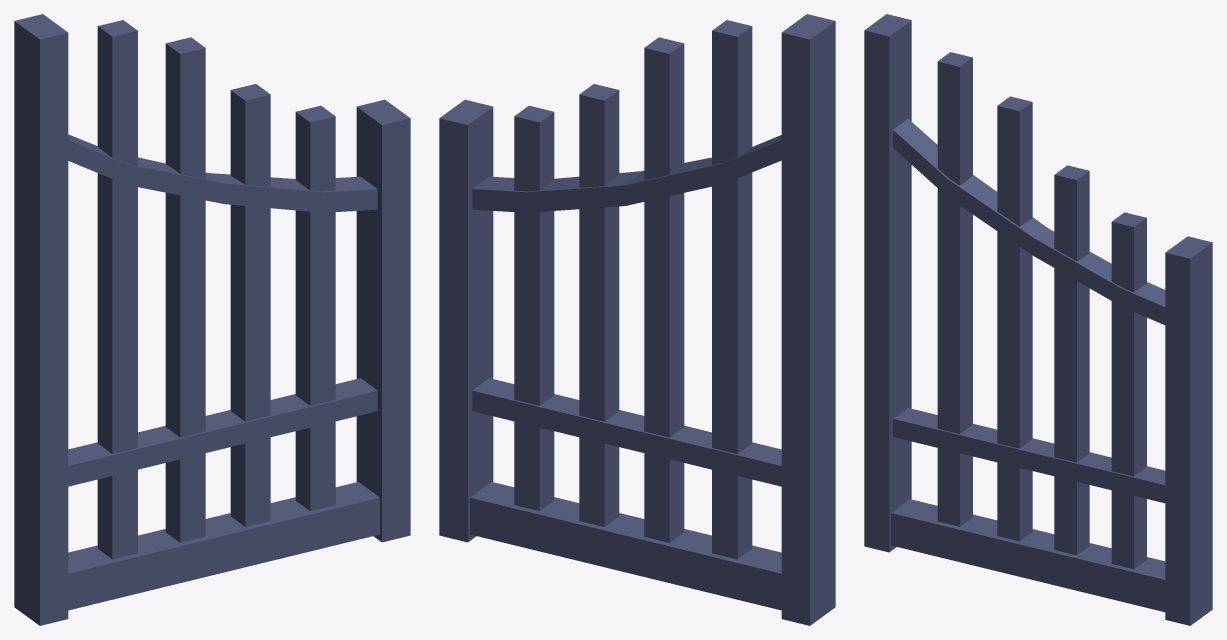
Rendered from Gate2.001.fbx.
The picture shows the model from 3 angles, left to right: view 1: azimuth 30°, elevation 25°; view 2: azimuth 150°, elevation 25°; view 3: azimuth 330°, elevation 25°; orthographic projection. The views are drawn at different scales.
Visible parts, largest first — view 1: Gate2; view 2: Gate2; view 3: Gate2.
Part boxes in pixels (<box>): Gate2: <box>14,14,410,625</box>; Gate2: <box>439,14,835,625</box>; Gate2: <box>864,14,1212,625</box>.
Size of the model in its own units: 1.79 by 2.7 by 0.2131.
